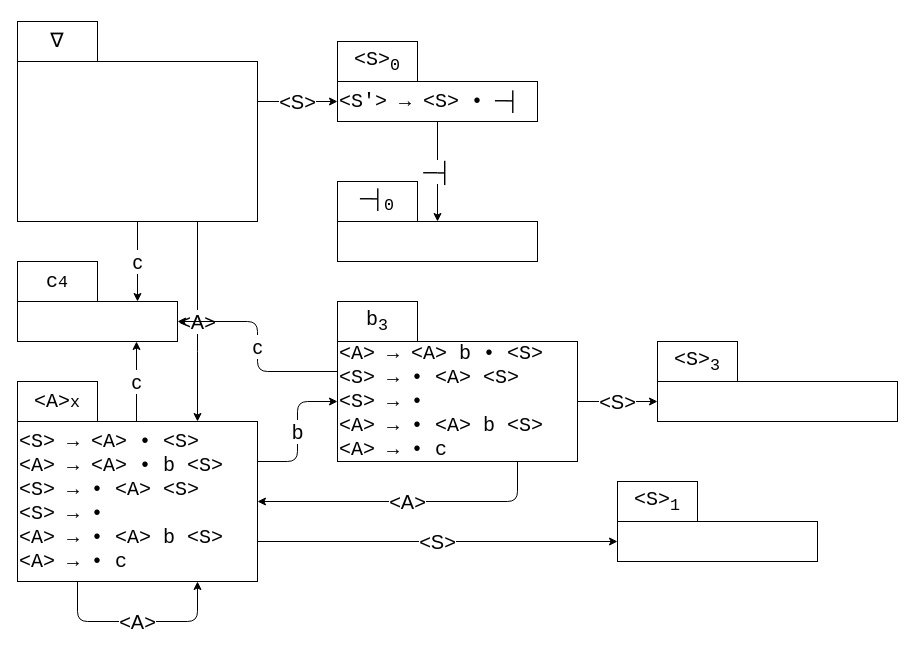
Image size: 915x650. Some labels were removed from this diagram. The centre of each missing label's shape, as x and y in pixels:
"<A> → <A> b <S> •" goes at [777,401].
"<A> → c •" goes at [97,321].
"<S'> → <S> ─┤ •" goes at [437,241].
"<S'> → • <S> ─┤ <S> → • <A> <S> <S> → • <A> → • <A> b <S> <A> → • c" goes at [137,141].
"<S> → <A> <S> •" goes at [717,541].
